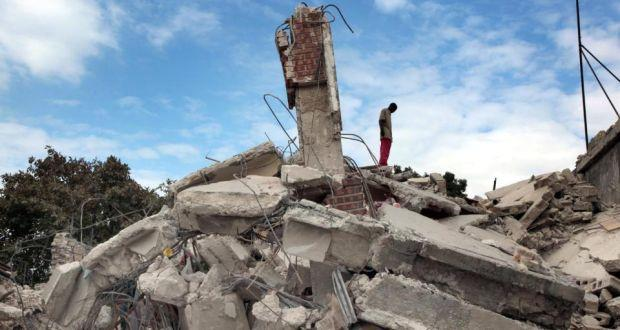victim: (376, 102, 400, 168)
